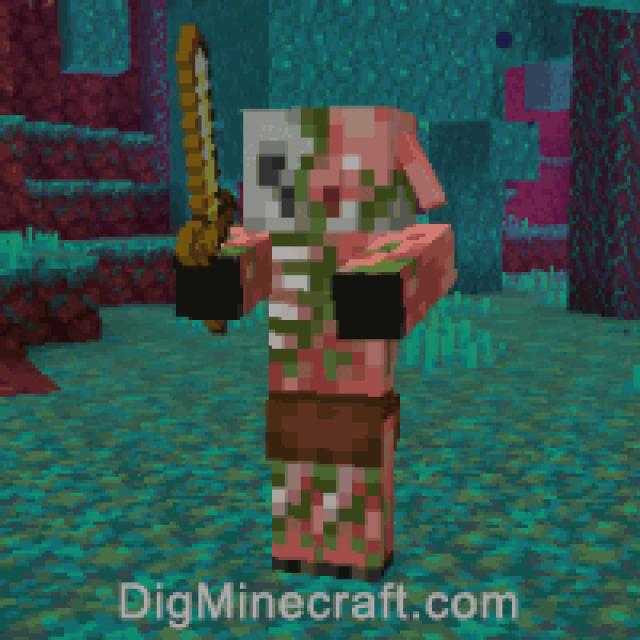Zombified Piglin: (170, 22, 460, 582)
